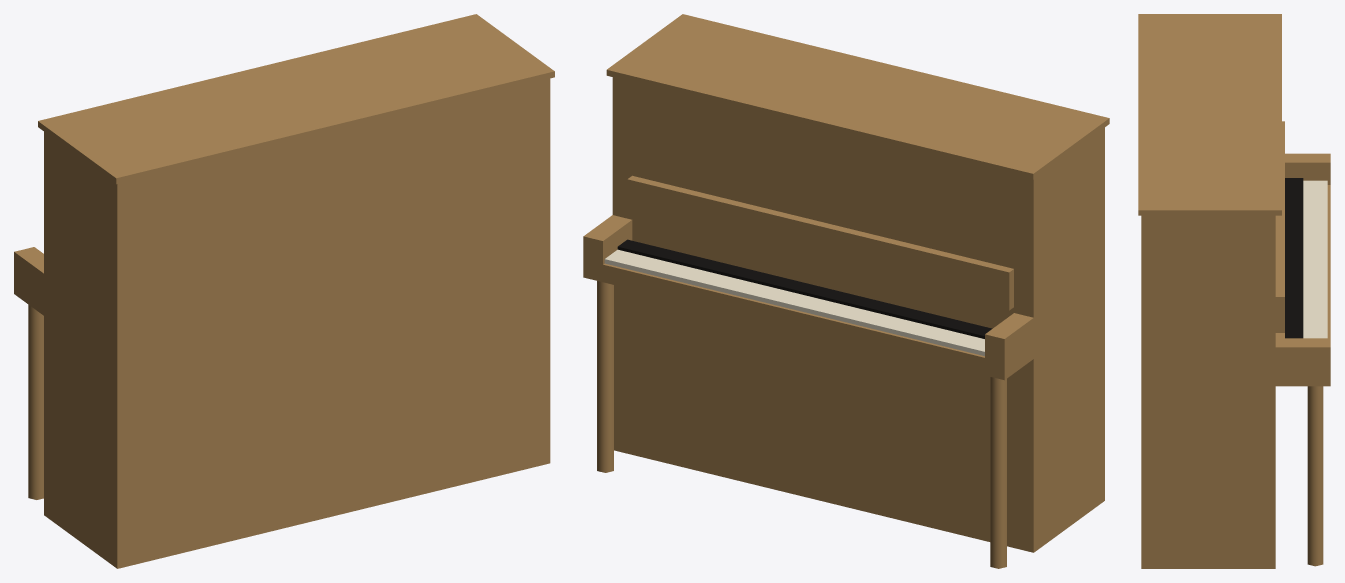
Rendered from parametric-piano-2nd-pub.glb.
3 views of the same model, side by side, from view 1: azimuth 30°, elevation 25°; view 2: azimuth 150°, elevation 25°; view 3: azimuth 270°, elevation 25° (orthographic). The views are drawn at different scales.
Visible parts, largest first — view 1: parametric-piano-2nd-pub; view 2: parametric-piano-2nd-pub; view 3: parametric-piano-2nd-pub.
Boxes of the visible parts, x1=… form: parametric-piano-2nd-pub: x1=14, y1=14, x2=554, y2=568; parametric-piano-2nd-pub: x1=583, y1=14, x2=1109, y2=568; parametric-piano-2nd-pub: x1=1138, y1=14, x2=1330, y2=568.
Bounding box in the file's own units: 1.52 × 1.3 × 0.63.
